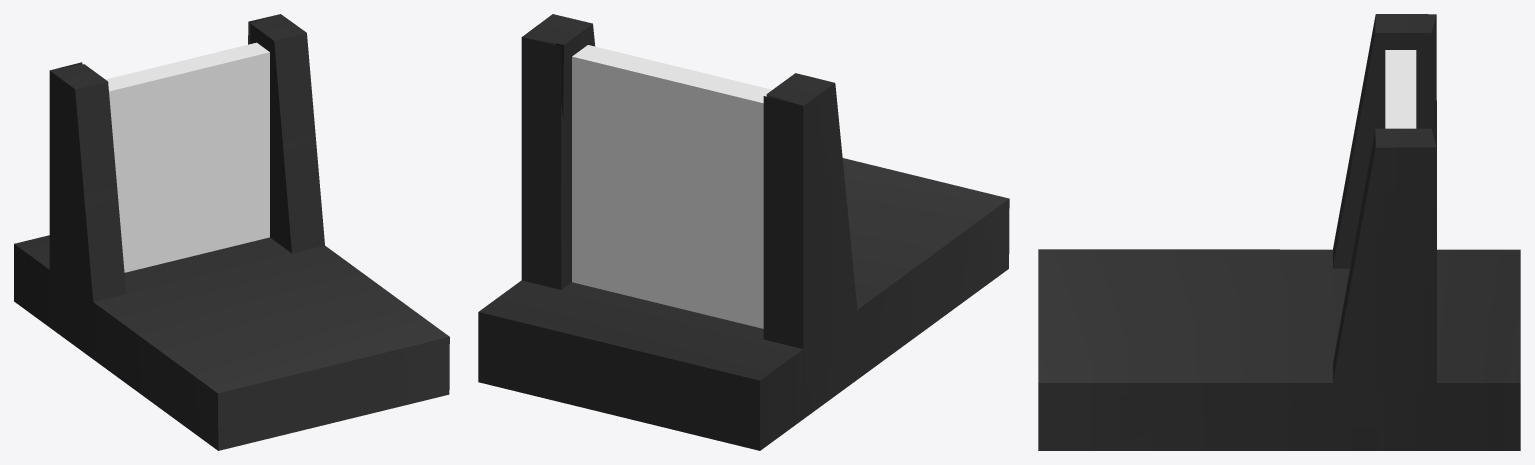
File: ReflexA_mesh.fbx
The picture shows the model from 3 angles, left to right: view 1: azimuth 30°, elevation 25°; view 2: azimuth 150°, elevation 25°; view 3: azimuth 270°, elevation 25°; orthographic projection. The views are drawn at different scales.
Parts seen in each view (by area): view 1: ReflexA_mesh; view 2: ReflexA_mesh; view 3: ReflexA_mesh.
Part boxes in pixels (left/top/right/bottom): ReflexA_mesh: left=14, top=14, right=449, bottom=450; ReflexA_mesh: left=478, top=14, right=1009, bottom=450; ReflexA_mesh: left=1038, top=14, right=1520, bottom=450.
Size of the model in its own units: 2.67 by 2.83 by 4.07.
